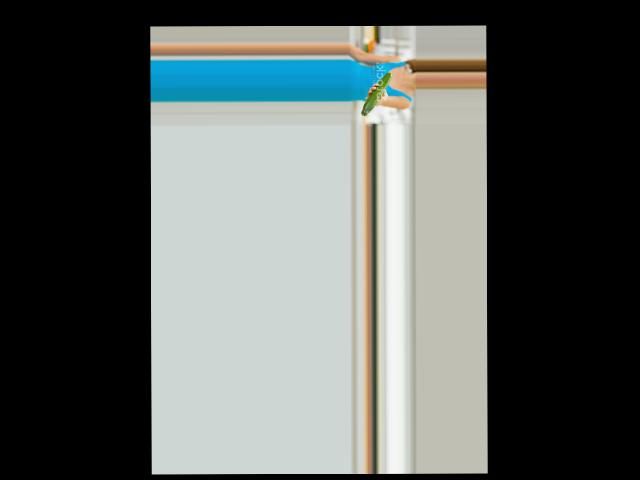cucumber: (360, 72, 391, 115)
